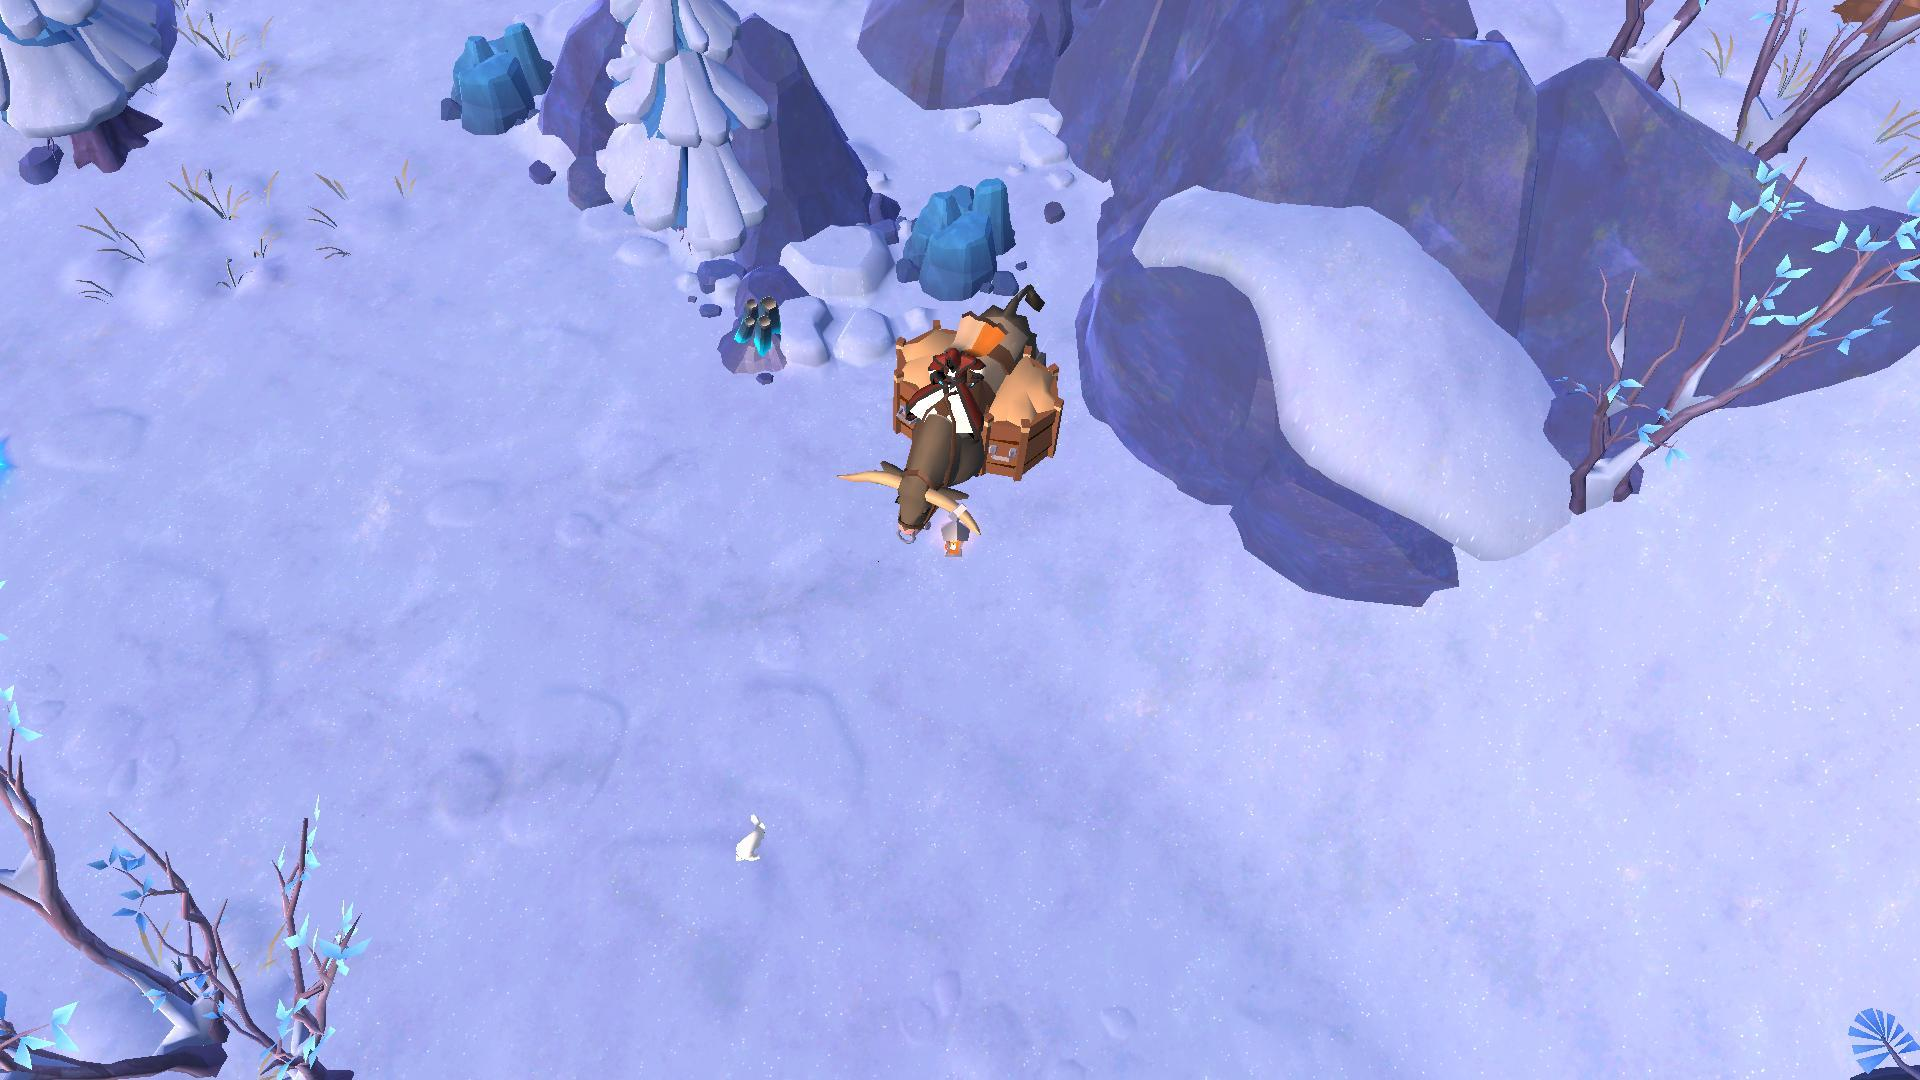ore_t4: (733, 298, 787, 363)
rock_t4: (882, 170, 1023, 305), (435, 22, 553, 138)
